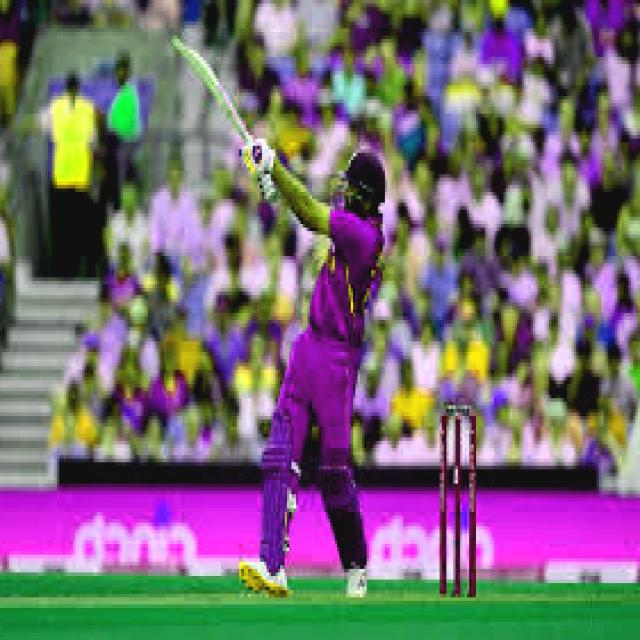toe: (166, 31, 192, 60)
